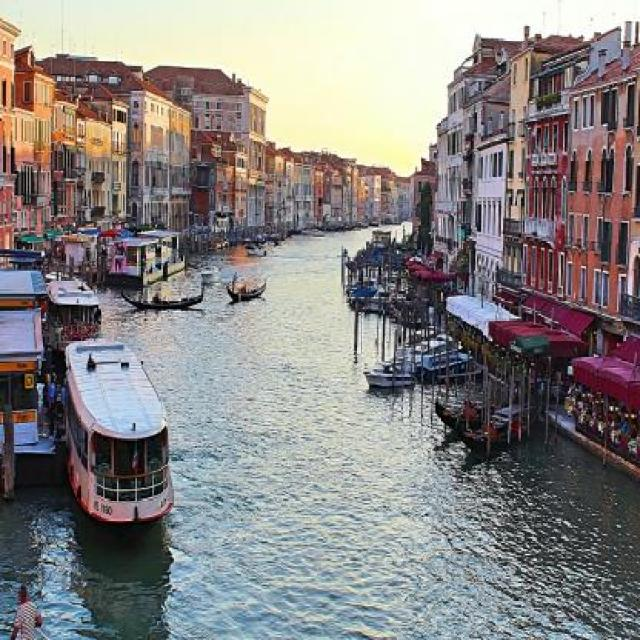ship: (64, 336, 174, 527), (462, 390, 543, 450), (46, 276, 102, 352), (120, 282, 205, 310), (404, 329, 454, 369), (416, 348, 473, 381), (362, 356, 411, 389), (225, 272, 266, 303), (198, 262, 220, 286)
